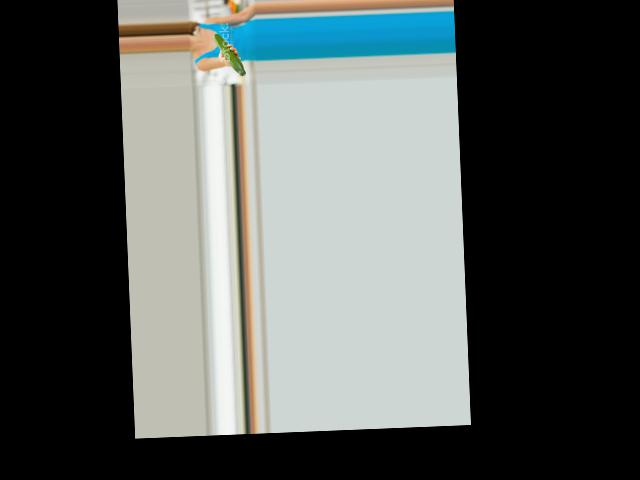cucumber: (213, 32, 246, 76)
